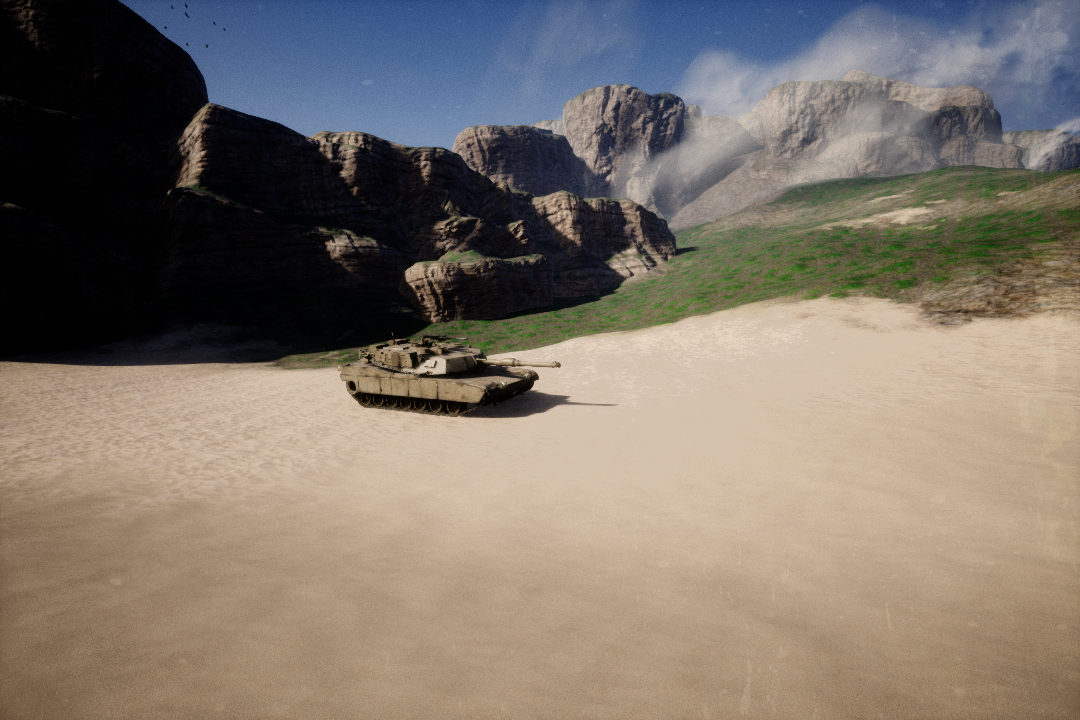tank: (325, 330, 566, 418)
